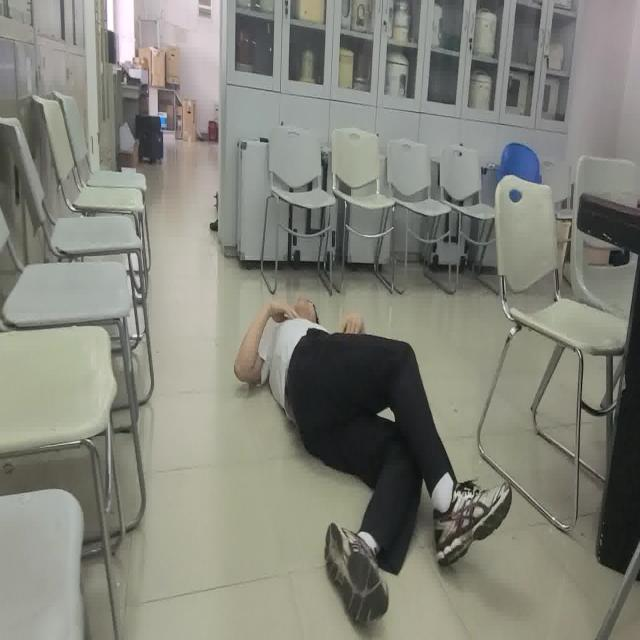Fall-Detected: (233, 294, 512, 640)
